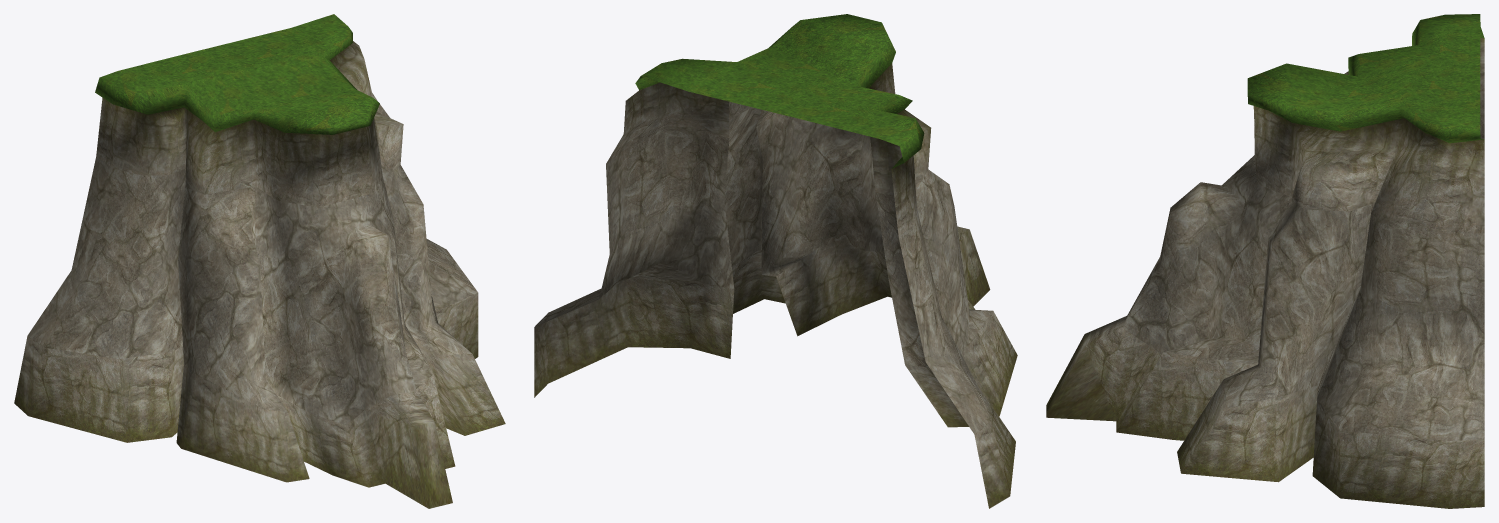
Rendered from cliffa.FBX.
3 views of the same model, side by side, from view 1: azimuth 30°, elevation 25°; view 2: azimuth 150°, elevation 25°; view 3: azimuth 270°, elevation 25° (orthographic). The views are drawn at different scales.
Visible parts, largest first — view 1: BOX01; view 2: BOX01; view 3: BOX01.
Boxes of the visible parts, box(x1,y1,x2,y2) form: BOX01: box(14, 14, 505, 508); BOX01: box(534, 14, 1017, 508); BOX01: box(1046, 14, 1484, 508).
Bounding box in the file's own units: 78.56 × 56.87 × 67.57.
3 materials, 3 textured.
